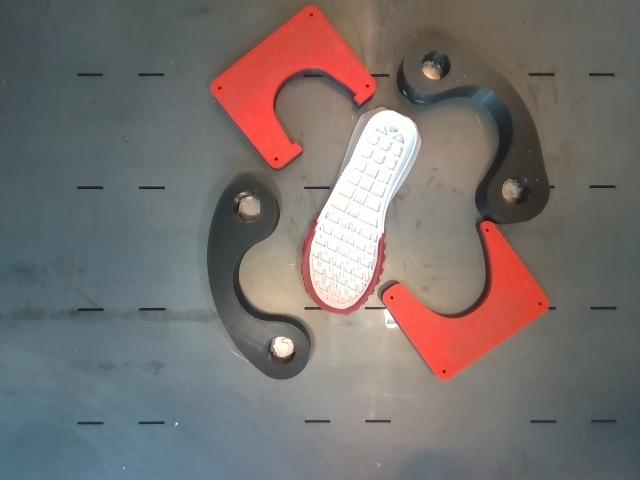shoes: (303, 111, 417, 314)
